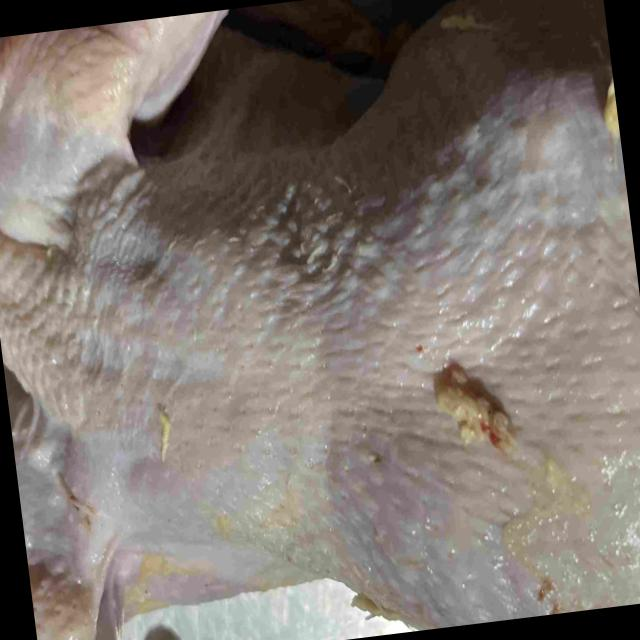back: (106, 85, 640, 576)
leg: (403, 0, 609, 47)
neck: (0, 232, 84, 423)
wing: (0, 10, 216, 245), (9, 414, 121, 640)
